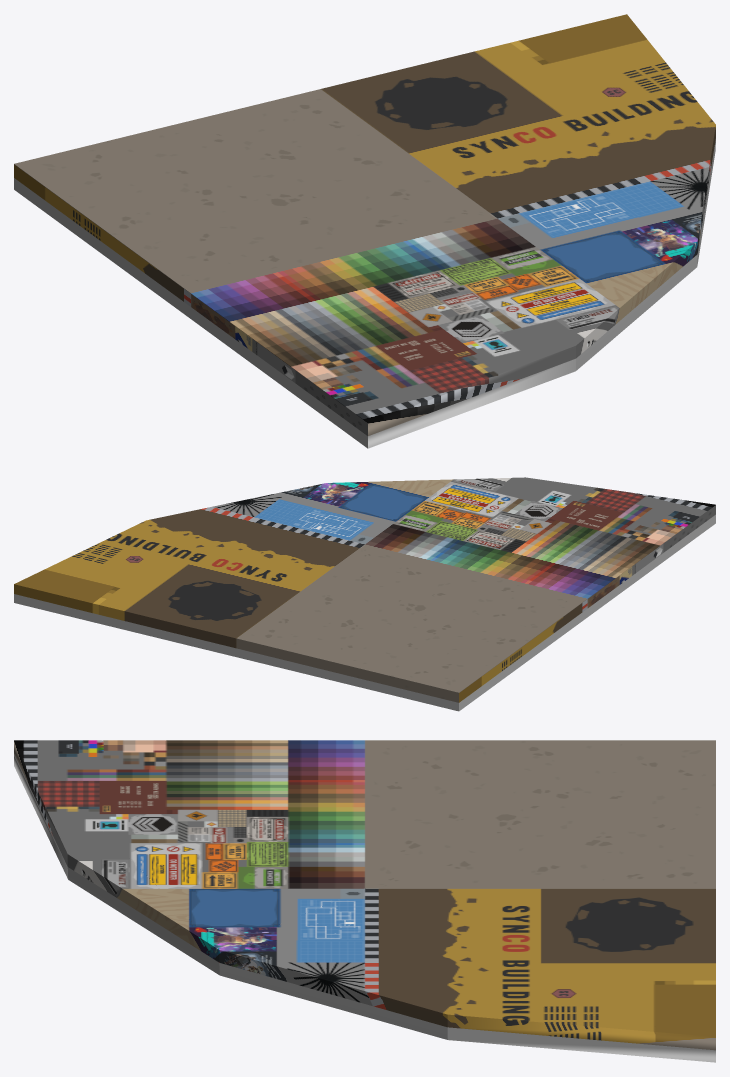
The model's file is SM_Bld_Base_Floor_Round_01.glb.
3 views of the same model, one above another, from view 1: azimuth 30°, elevation 25°; view 2: azimuth 150°, elevation 25°; view 3: azimuth 270°, elevation 25° (orthographic). The views are drawn at different scales.
Visible parts, largest first — view 1: SM_Bld_Base_Floor_Round_01; view 2: SM_Bld_Base_Floor_Round_01; view 3: SM_Bld_Base_Floor_Round_01.
Boxes of the visible parts, <box> form: SM_Bld_Base_Floor_Round_01: <box>14,14,715,448</box>; SM_Bld_Base_Floor_Round_01: <box>14,477,715,711</box>; SM_Bld_Base_Floor_Round_01: <box>14,740,715,1062</box>.
Size of the model in its own units: 2.5 by 0.1006 by 2.5.
2 materials, 1 textured.
